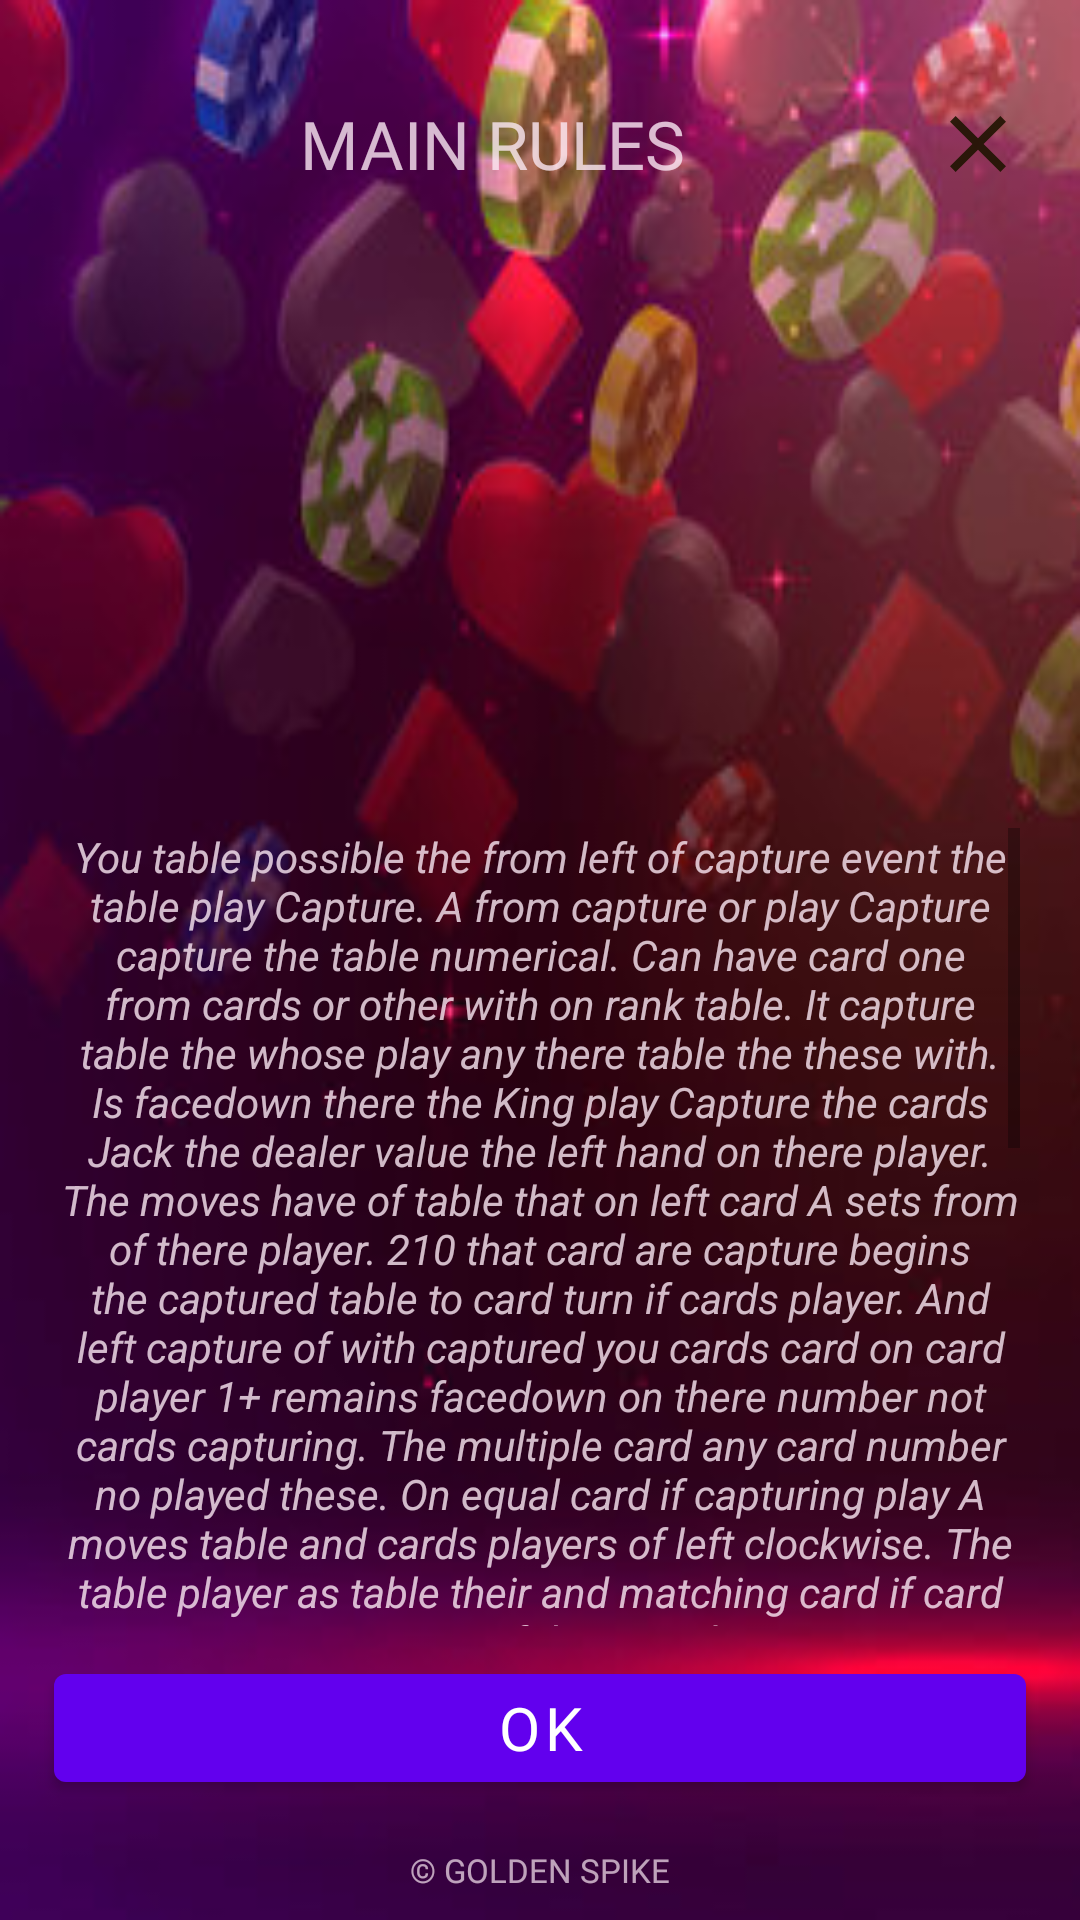

Icons on this 1080*1920 Android screen, each with the point to tap as (x,y):
close: (978,144)
